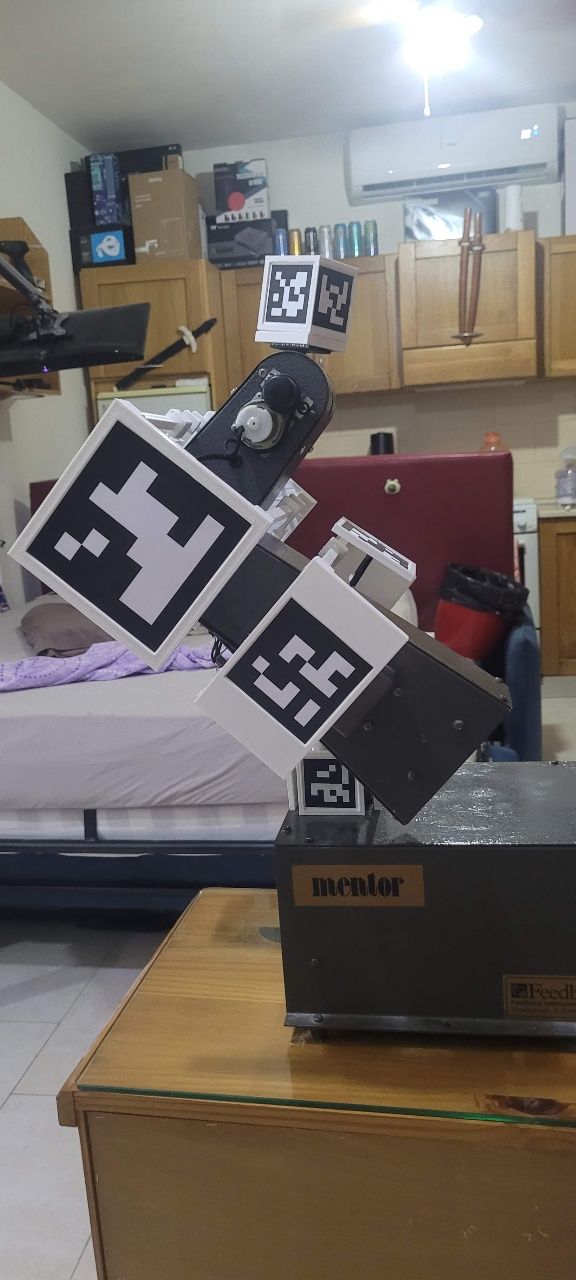Robot: (67, 373, 448, 971)
